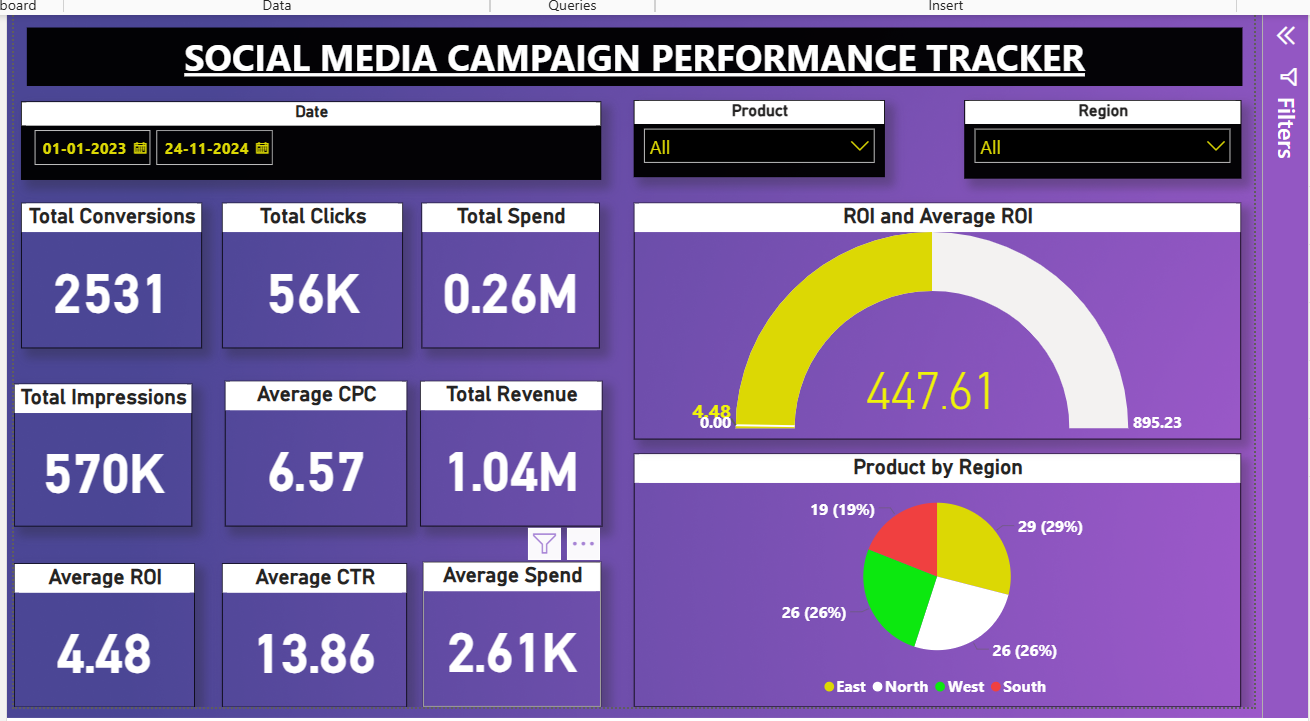

This screenshot's page, from the dashboard's own definition file:
{"tool":"powerbi","page":{"name":"Page 1","canvas":[1280,720],"ordinal":0},"visuals":[{"type":"card","title":"Total Clicks","fields":{"Values":["Sum(Sheet1.Clicks)"]},"box":[214.7,200,186.8,150],"z":0},{"type":"card","title":"Total Conversions","fields":{"Values":["Sum(Sheet1.Conversions)"]},"box":[7.4,200,186.8,150],"z":1000},{"type":"card","title":"Total Impressions","fields":{"Values":["Sum(Sheet1.Impressions)"]},"box":[0,386.8,183.9,147.1],"z":2000},{"type":"card","title":"Average CPC","fields":{"Values":["Avg(Sheet1.CPC)"]},"box":[217.7,383.9,188.3,150],"z":3000},{"type":"card","title":"Total Revenue","fields":{"Values":["Sum(Sheet1.Revenue)"]},"box":[419.2,383.9,188.3,150],"z":4000},{"type":"card","title":"Total Spend","fields":{"Values":["Sum(Sheet1.Spend)"]},"box":[420.7,200,183.9,150],"z":5000},{"type":"card","title":"Average ROI","fields":{"Values":["Avg(Sheet1.ROI)"]},"box":[0,572.2,186.8,148.6],"z":6000},{"type":"card","title":"Average CTR","fields":{"Values":["Sum(Sheet1.CTR)"]},"box":[214.7,572.2,191.2,148.6],"z":7000},{"type":"textbox","box":[13.2,19.1,1254.6,60.3],"z":8000},{"type":"slicer","title":"Date","fields":{"Values":["Sheet1.Date"]},"box":[7.4,95.6,598.6,80.9],"z":9000},{"type":"slicer","title":"Region","fields":{"Values":["Sheet1.Region"]},"box":[981.1,94.1,285.3,80.9],"z":10000},{"type":"slicer","title":"Product","fields":{"Values":["Sheet1.Product"]},"box":[639.8,94.1,258.9,79.4],"z":11000},{"type":"pieChart","title":"Product by Region","fields":{"Y":["CountNonNull(Sheet1.Product)"],"Category":["Sheet1.Region"]},"box":[639.8,458.9,626.6,261.8],"z":12000},{"type":"card","title":"Average Spend","fields":{"Values":["Avg(Sheet1.Spend)"]},"box":[422.1,570.7,183.9,150],"z":13000},{"type":"gauge","title":"ROI and Average ROI","fields":{"TargetValue":["Avg(Sheet1.ROI)"],"Y":["Sum(Sheet1.ROI)1"]},"box":[639.8,200,626.6,244.2],"z":14000}]}

Visuals, with their boxes on the page's 1280x720 design canvas (x1, y1, x2, y2). These are canvas units, not pixel positions in the 1310x721 screenshot, which may show the page scaled, cropped or inside an application window:
"Total Clicks" card: (x1=215, y1=200, x2=402, y2=350)
"Total Conversions" card: (x1=7, y1=200, x2=194, y2=350)
"Total Impressions" card: (x1=0, y1=387, x2=184, y2=534)
"Average CPC" card: (x1=218, y1=384, x2=406, y2=534)
"Total Revenue" card: (x1=419, y1=384, x2=608, y2=534)
"Total Spend" card: (x1=421, y1=200, x2=605, y2=350)
"Average ROI" card: (x1=0, y1=572, x2=187, y2=721)
"Average CTR" card: (x1=215, y1=572, x2=406, y2=721)
textbox: (x1=13, y1=19, x2=1268, y2=79)
"Date" slicer: (x1=7, y1=96, x2=606, y2=176)
"Region" slicer: (x1=981, y1=94, x2=1266, y2=175)
"Product" slicer: (x1=640, y1=94, x2=899, y2=174)
"Product by Region" pieChart: (x1=640, y1=459, x2=1266, y2=721)
"Average Spend" card: (x1=422, y1=571, x2=606, y2=721)
"ROI and Average ROI" gauge: (x1=640, y1=200, x2=1266, y2=444)
